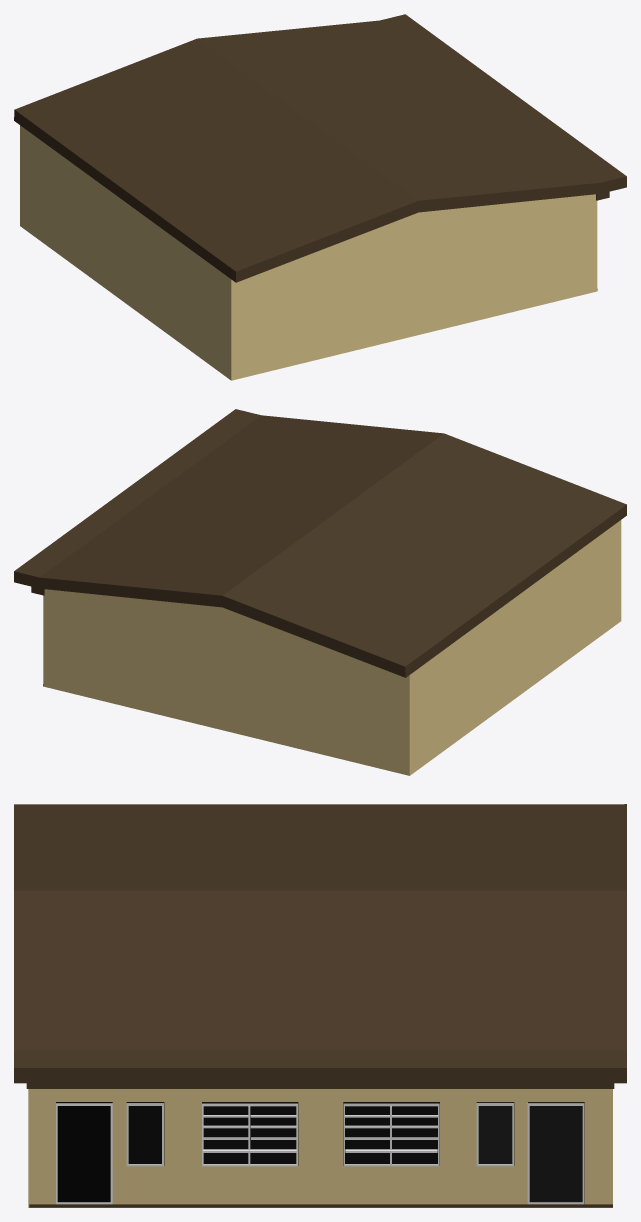
Rendered from ballroom.glb.
3 views of the same model, one above another, from view 1: azimuth 30°, elevation 25°; view 2: azimuth 150°, elevation 25°; view 3: azimuth 270°, elevation 25° (orthographic). The views are drawn at different scales.
Visible parts, largest first — view 1: BALLROOM; view 2: BALLROOM; view 3: BALLROOM.
Boxes of the visible parts, x1,y1,x2,y2 form: BALLROOM: [14, 14, 626, 380]; BALLROOM: [14, 409, 626, 775]; BALLROOM: [14, 804, 626, 1207].
Size of the model in its own units: 2.14 by 0.7277 by 2.1.
